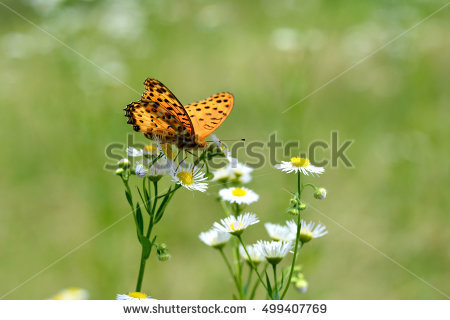Argyreus hyperbius: (118, 72, 246, 174)
butterfly: (120, 74, 248, 176)
